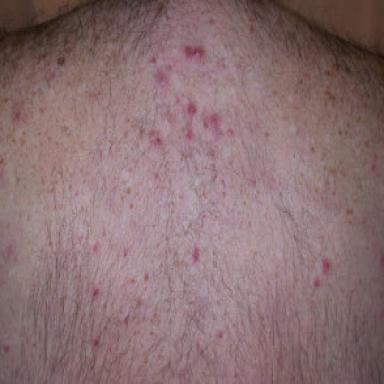acne: (150, 130, 163, 148), (185, 46, 204, 58), (209, 113, 221, 129), (156, 71, 168, 86), (187, 102, 197, 115), (323, 258, 331, 274), (193, 246, 199, 261), (93, 336, 101, 347), (14, 110, 22, 121), (93, 241, 100, 253), (186, 130, 193, 140), (227, 128, 234, 136), (150, 56, 157, 64), (314, 278, 320, 287), (3, 345, 10, 352), (94, 287, 100, 295)
